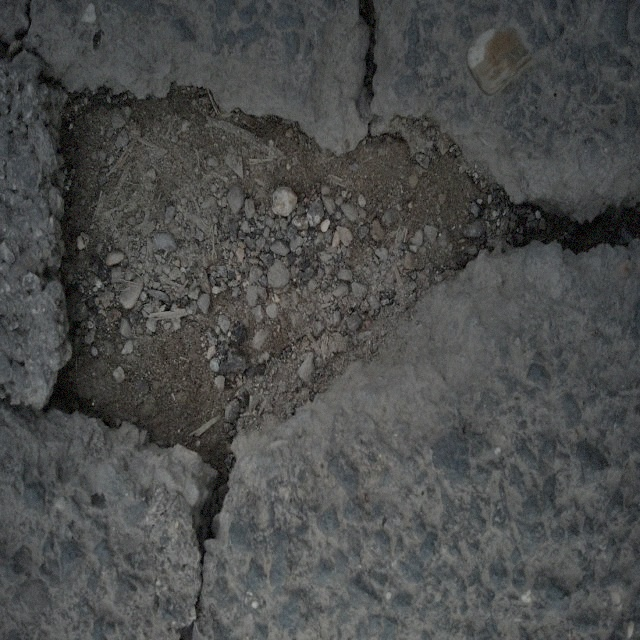pothole: (31, 44, 533, 476)
